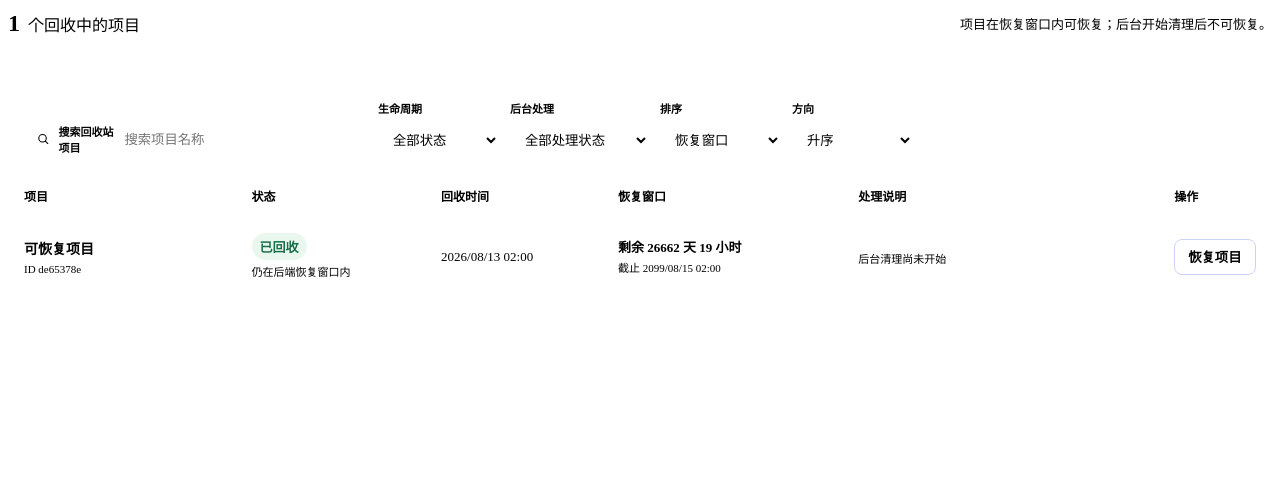
项目回收站 › 恢复结果未知时以同一幂等键重试，成功后移出列表
Expected: the text "可恢复项目" is shown, [24,242,94,258]
Click the button "恢复项目" at (1215, 257), box [1174,239,1256,275]
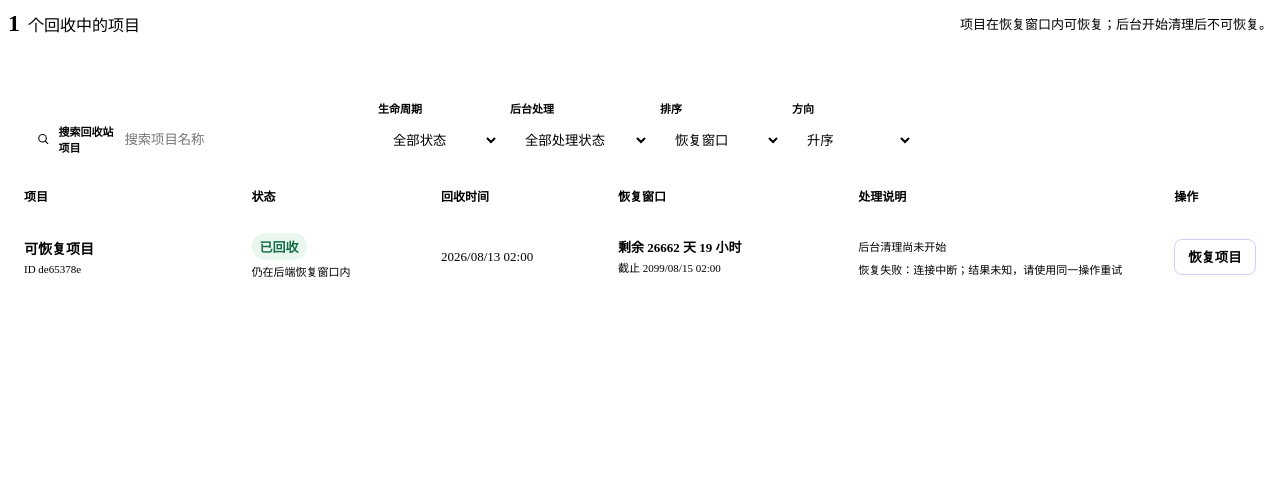
Expected: the text "恢复失败：连接中断；结果未知，请使用同一操作重试" is shown, [858,264,1142,279]
Click the button "恢复项目" at (1215, 257), box [1174,239,1256,275]
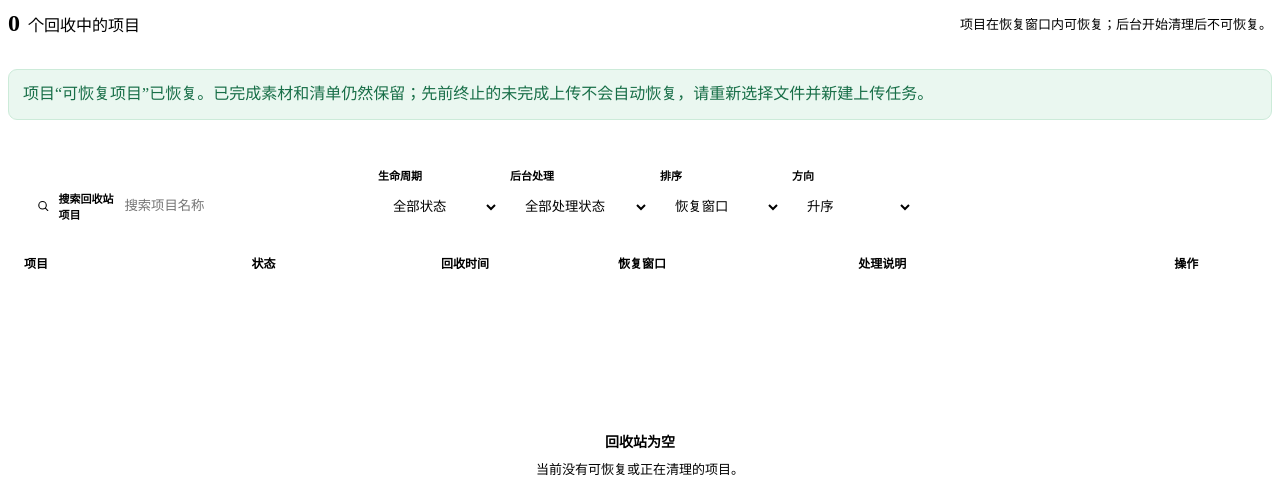
Expected: the text "项目“可恢复项目”已恢复。已完成素材和清单仍然保留；先前终止的未完成上传不会自动恢复，请重新选择文件并新建上传任务。" is shown, [8,69,1272,120]
